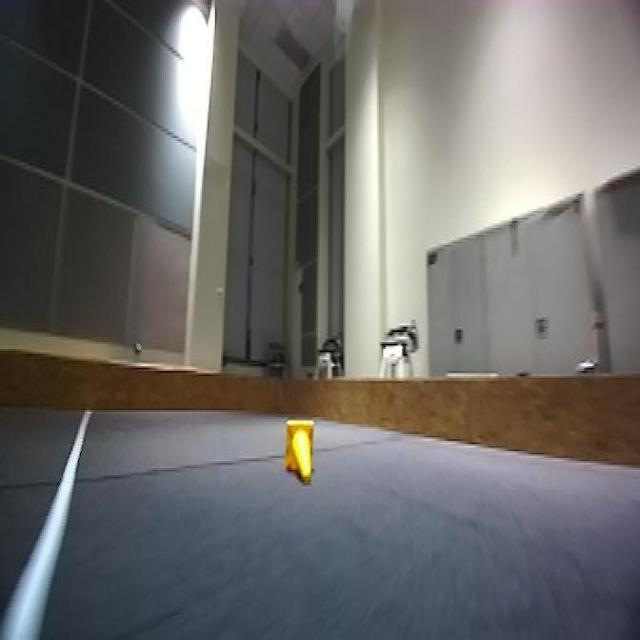frc_cone: (283, 419, 316, 485)
